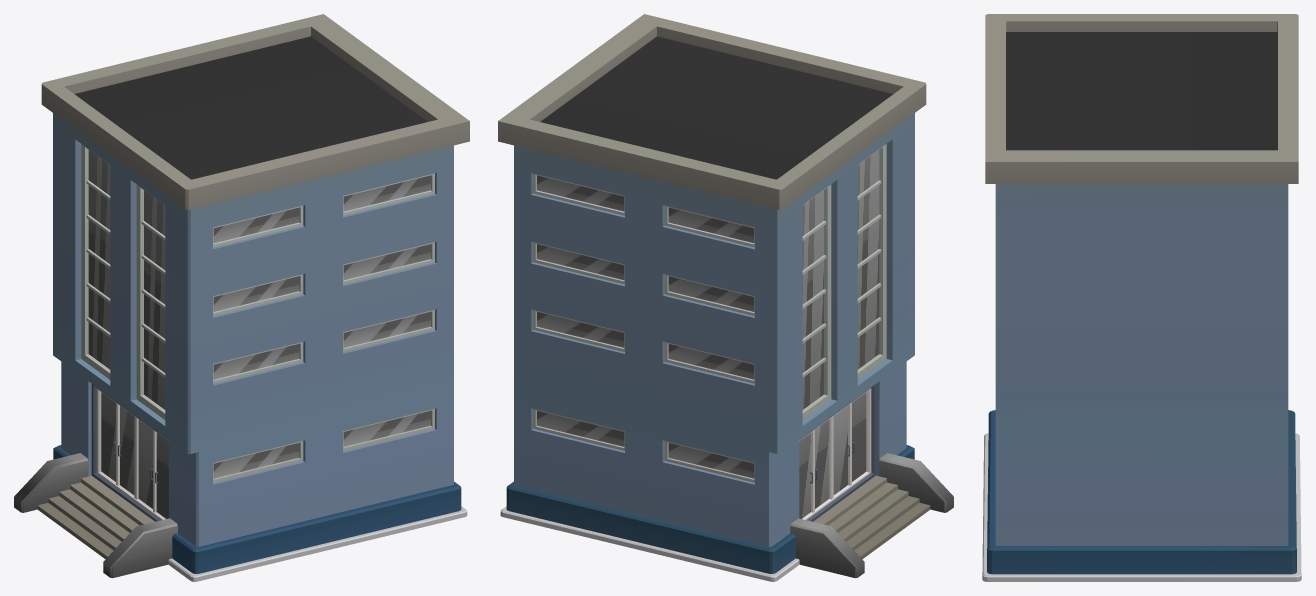
Rendered from Building_26_J.fbx.
The picture shows the model from 3 angles, left to right: view 1: azimuth 30°, elevation 25°; view 2: azimuth 150°, elevation 25°; view 3: azimuth 270°, elevation 25°; orthographic projection. The views are drawn at different scales.
Visible parts, largest first — view 1: Building_26_J; view 2: Building_26_J; view 3: Building_26_J.
Part boxes in pixels (bbox=[...]): Building_26_J: bbox=[14, 14, 469, 581]; Building_26_J: bbox=[498, 14, 953, 581]; Building_26_J: bbox=[982, 14, 1301, 581].
Size of the model in its own units: 923 by 1037 by 712.
